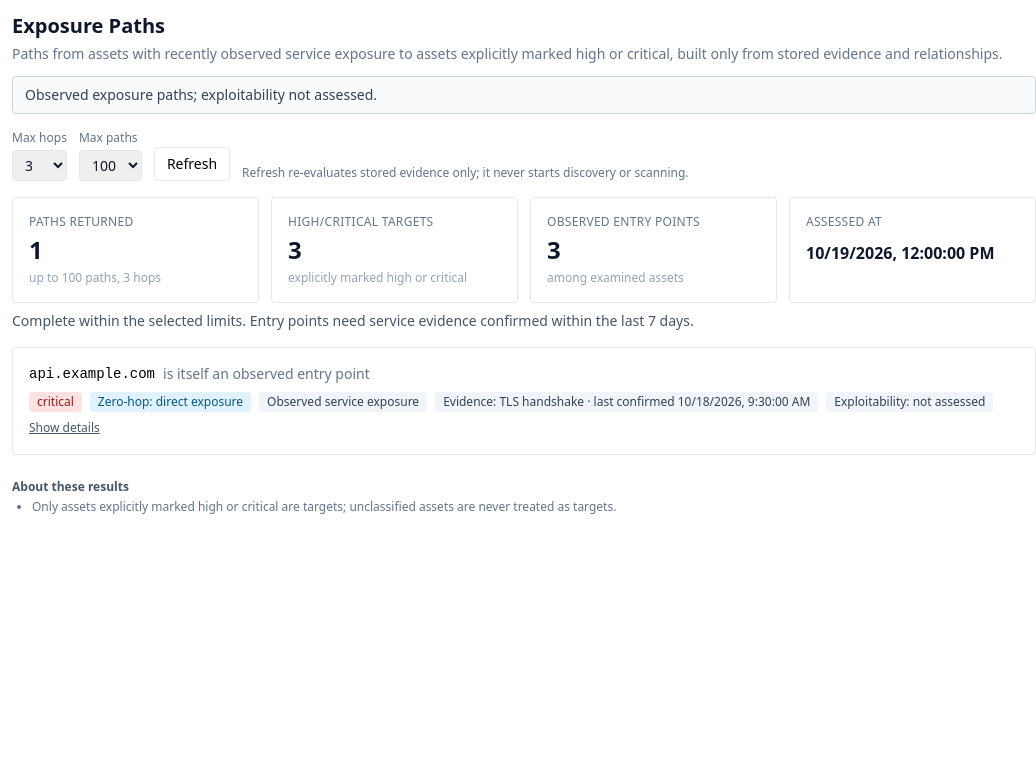
Scenario: ExposurePathsPage › renders a zero-hop path as direct exposure, without a relationship
The image size is (1036, 776).
Check: the text "Zero-hop: direct exposure" is shown, box [90,392,251,412]
Check: the text "Observed service exposure" is shown, box [259,392,427,412]
Click the button "Show details": (64, 428) [29,420,100,436]
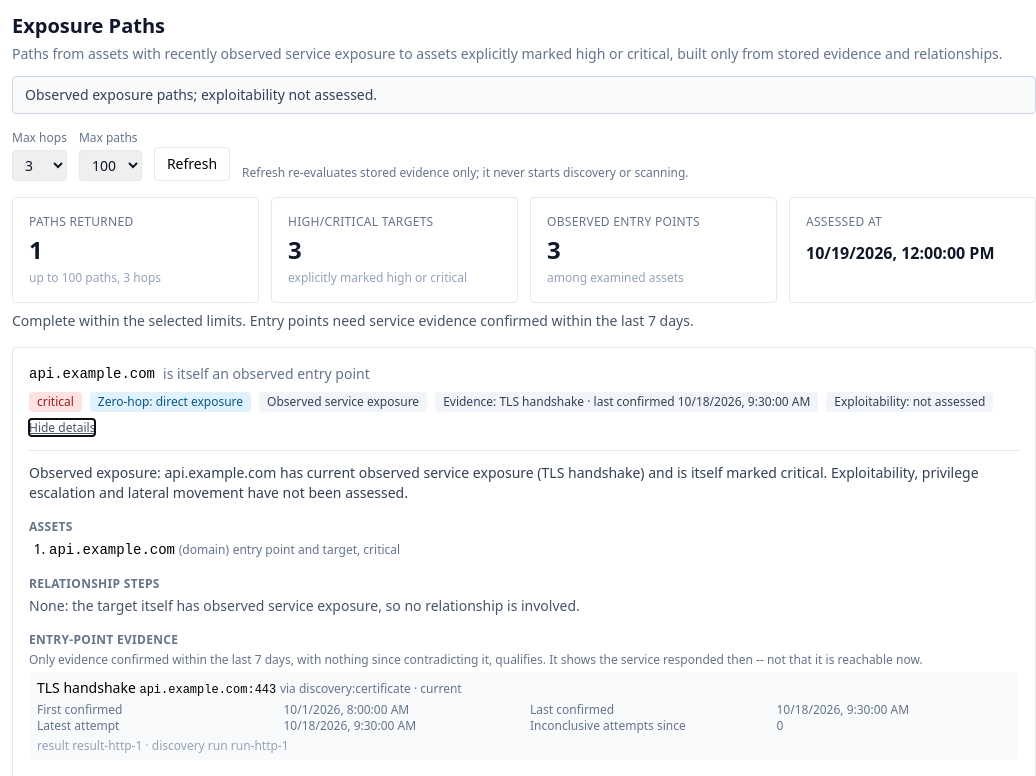
Check: the text "None: the target itself has observed service exposure" is shown, box [29,596,580,615]
Check: the text "TLS handshake" is shown, box [37,678,136,697]
